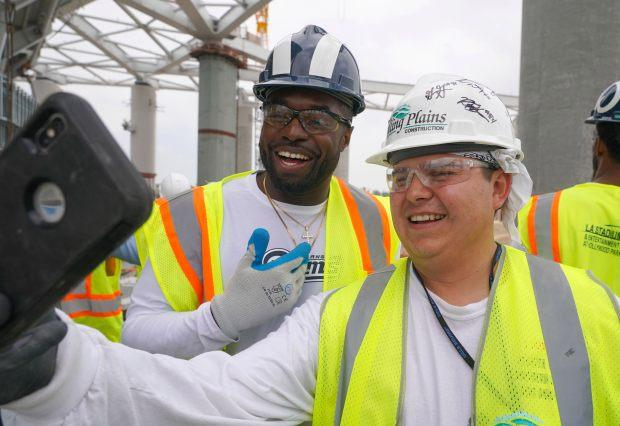helmet: (365, 77, 523, 169), (254, 24, 369, 114)
